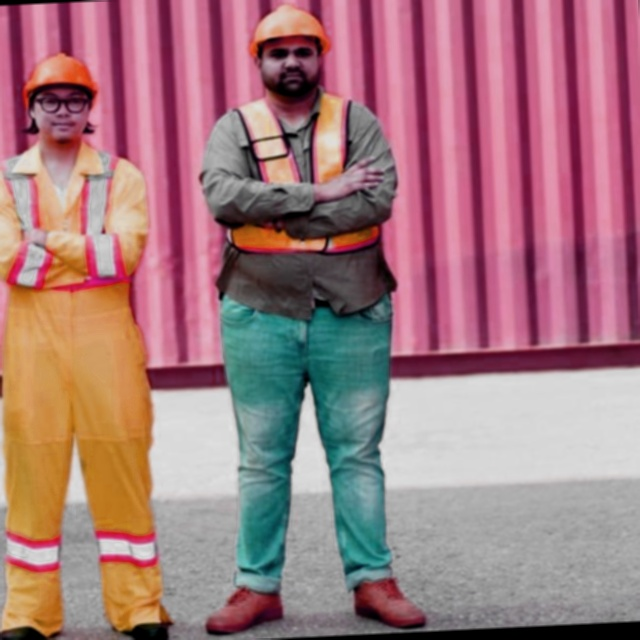Con_Casco: (246, 1, 329, 97), (21, 49, 99, 149)
Con_Chaleco: (210, 91, 384, 264), (0, 144, 151, 314)
